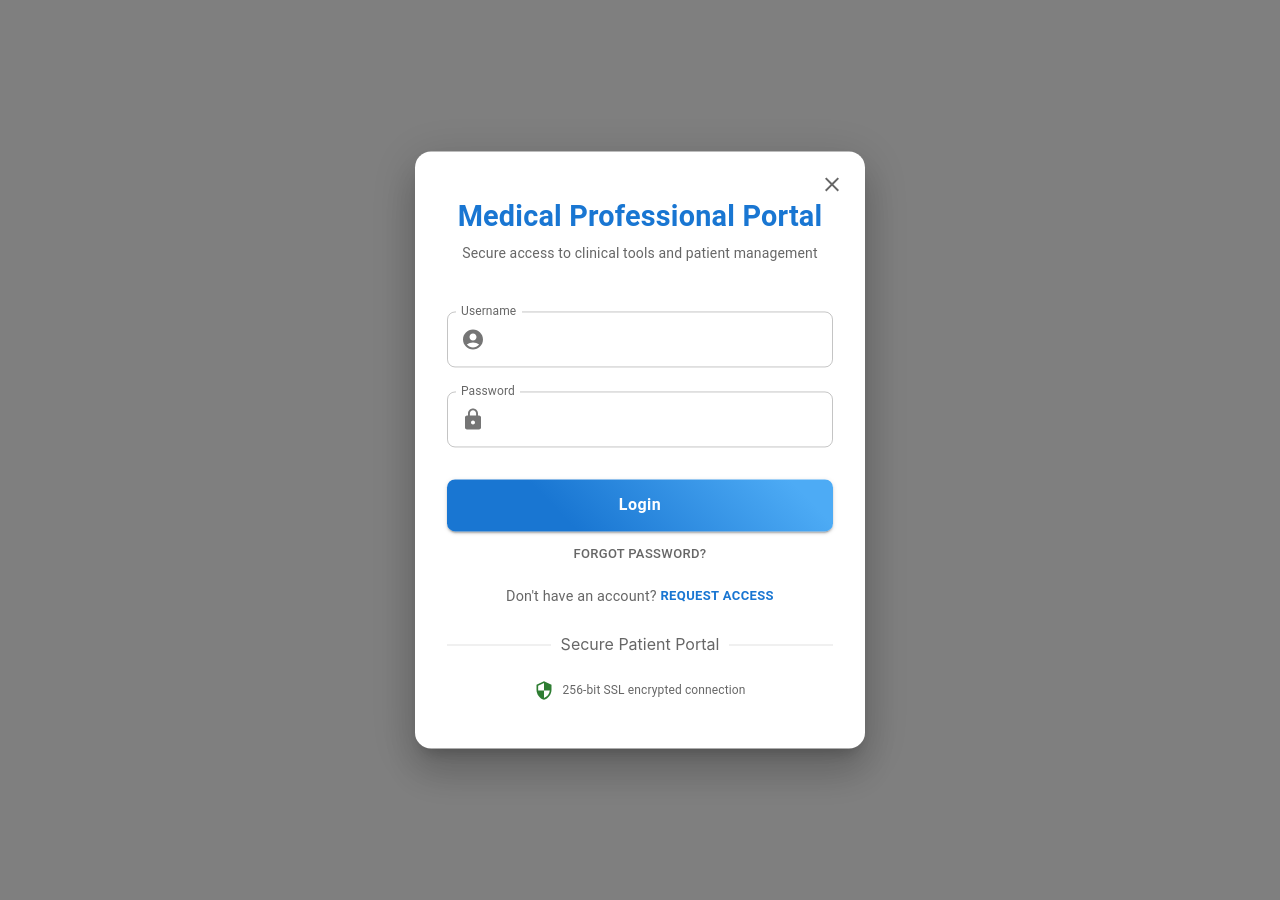
Test: DoctorLoginPage › shows validation error on empty submit
Click the button "Login" at (640, 505), box [447, 479, 833, 531]
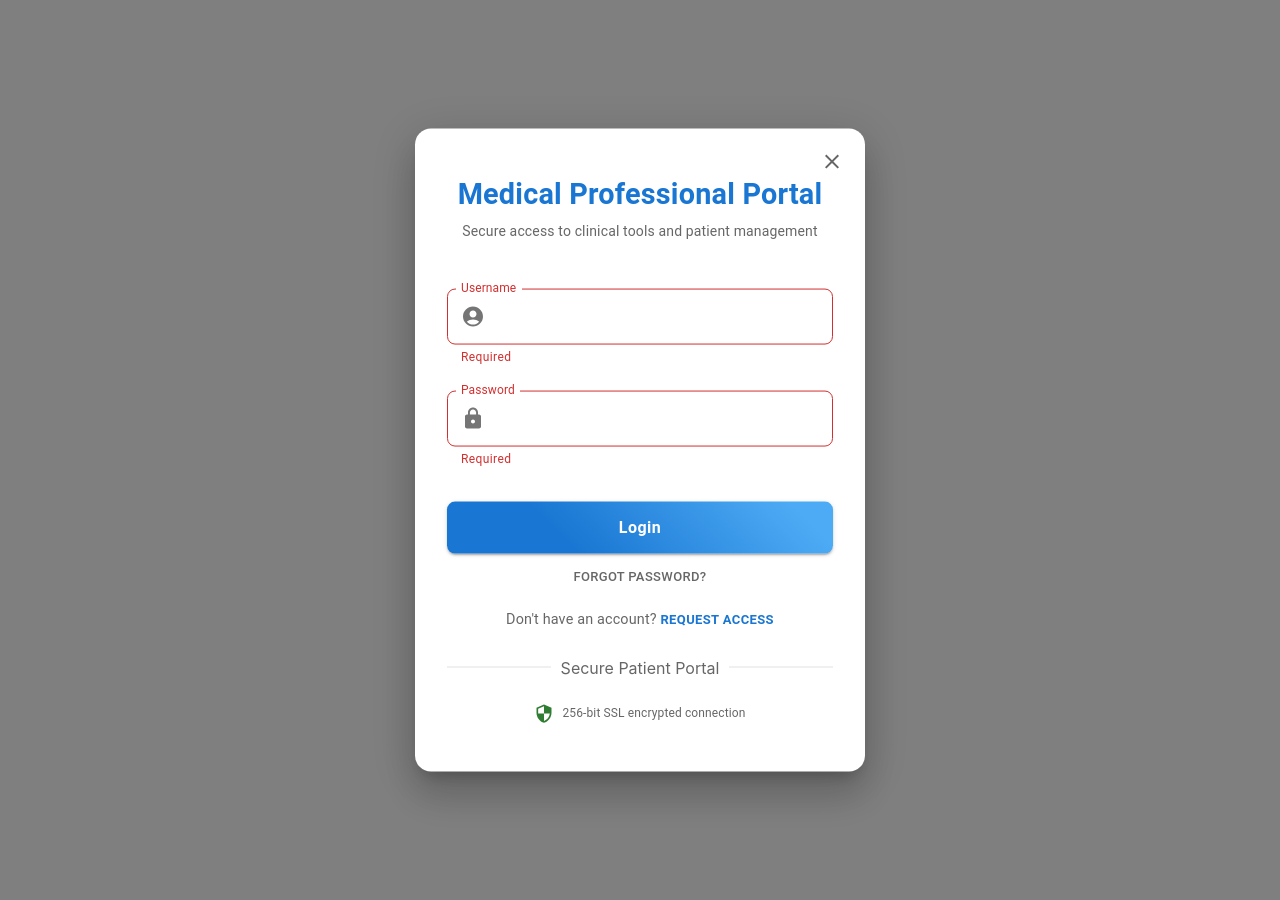
expect the text "Required" is shown 2 times: met, box [461, 349, 511, 363]; [461, 452, 511, 466]
